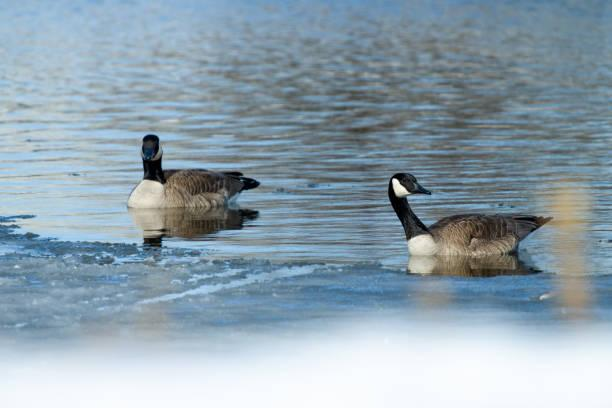Canadian-Goose: (386, 171, 550, 259), (125, 135, 258, 214)
